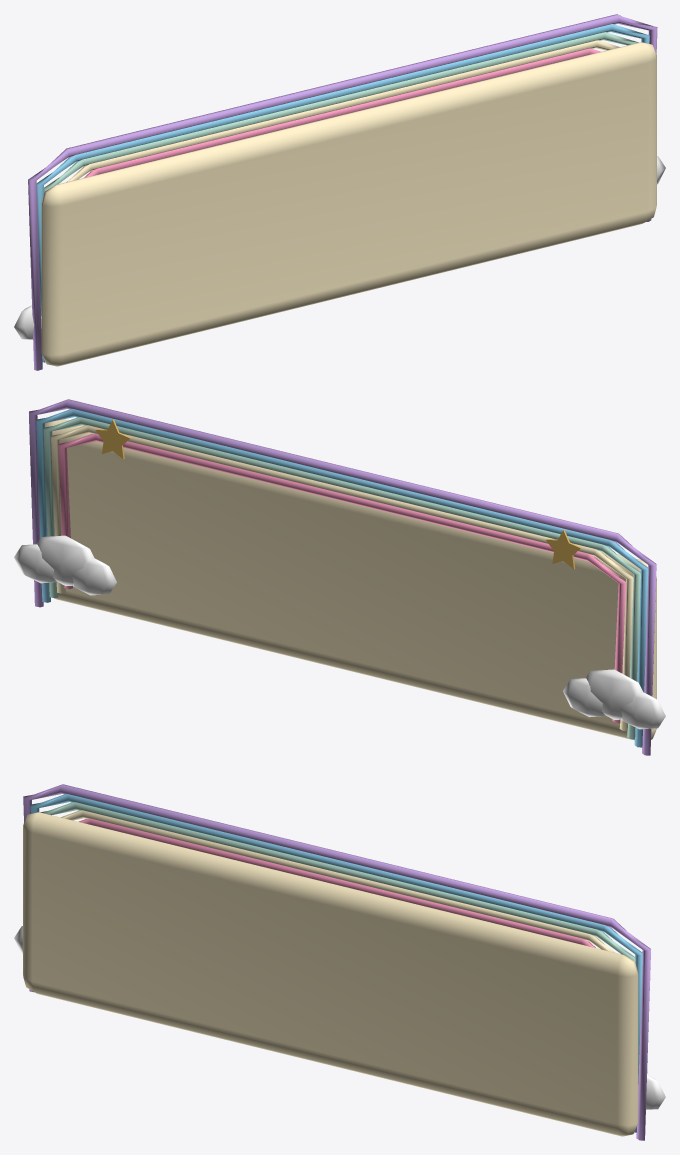
The model's file is sign_rainbow.glb.
The picture shows the model from 3 angles, top to bottom: view 1: azimuth 30°, elevation 25°; view 2: azimuth 150°, elevation 25°; view 3: azimuth 330°, elevation 25°; orthographic projection.
Parts seen in each view (by area): view 1: Body; view 2: Body; view 3: Body.
Part boxes in pixels (left/top/right/bottom): Body: left=14, top=14, right=665, bottom=370; Body: left=14, top=399, right=665, bottom=755; Body: left=14, top=784, right=665, bottom=1140.
Bounding box in the file's own units: 1.6 × 0.5 × 0.08.
7 materials, 7 textured.
